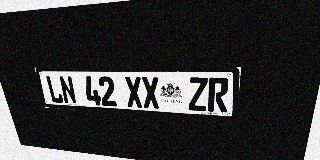2: (98, 76, 117, 106)
4: (83, 76, 102, 106)
L: (45, 76, 64, 104)
N: (58, 76, 77, 104)
R: (208, 77, 229, 112)
X: (141, 77, 160, 109), (124, 77, 143, 108)
Z: (188, 77, 208, 111)
